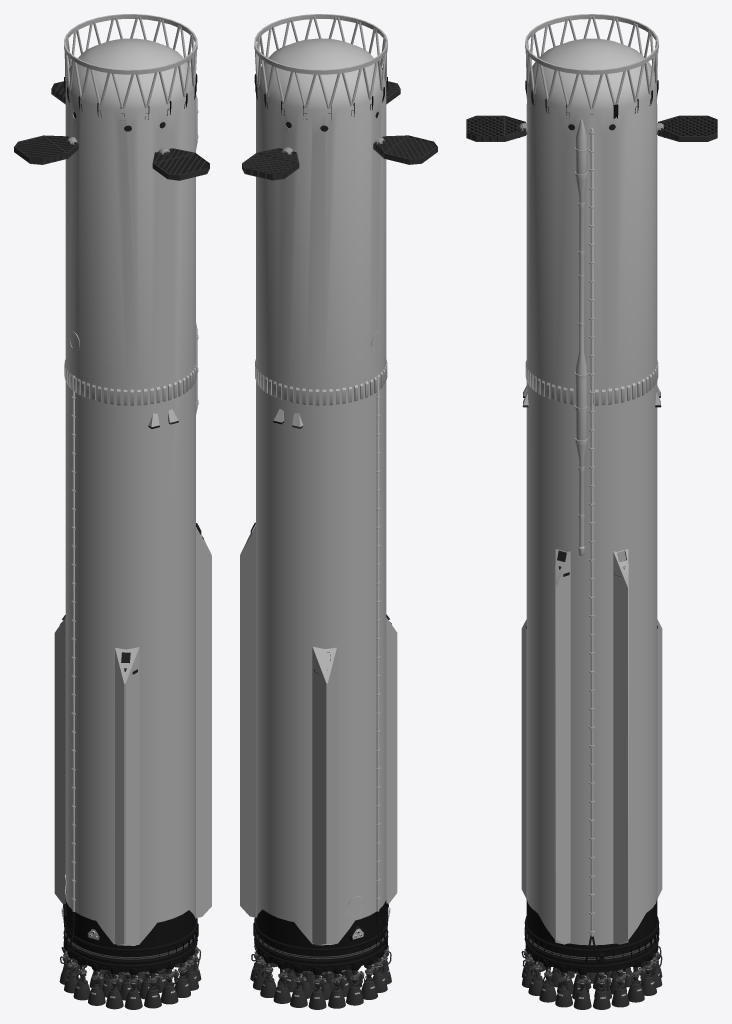
File: super-heavy.glb
The picture shows the model from 3 angles, left to right: view 1: azimuth 30°, elevation 25°; view 2: azimuth 150°, elevation 25°; view 3: azimuth 270°, elevation 25°; orthographic projection.
Parts seen in each view (by area): view 1: Object_98, Object_100, Object_108, Object_119, Object_116, Object_105; view 2: Object_98, Object_100, Object_108, Object_119, Object_116, Object_105; view 3: Object_98, Object_108, Object_100, Object_119, Object_116.
Boxes of the visible parts, x1=… form: Object_98: x1=54, y1=14, x2=211, y2=945; Object_100: x1=63, y1=67, x2=198, y2=971; Object_108: x1=59, y1=946, x2=201, y2=1009; Object_119: x1=14, y1=81, x2=209, y2=180; Object_116: x1=63, y1=941, x2=197, y2=974; Object_105: x1=62, y1=947, x2=198, y2=982; Object_98: x1=240, y1=14, x2=397, y2=945; Object_100: x1=253, y1=68, x2=388, y2=970; Object_108: x1=250, y1=945, x2=391, y2=1009; Object_119: x1=242, y1=81, x2=437, y2=180; Object_116: x1=254, y1=941, x2=387, y2=975; Object_105: x1=254, y1=949, x2=388, y2=982; Object_98: x1=521, y1=14, x2=662, y2=945; Object_108: x1=521, y1=946, x2=662, y2=1009; Object_100: x1=522, y1=80, x2=661, y2=974; Object_119: x1=466, y1=115, x2=717, y2=141; Object_116: x1=525, y1=944, x2=658, y2=974.
Bounding box in the file's own units: 2.78 × 14.55 × 3.51.
Materials: 15 (1 with a texture image).
